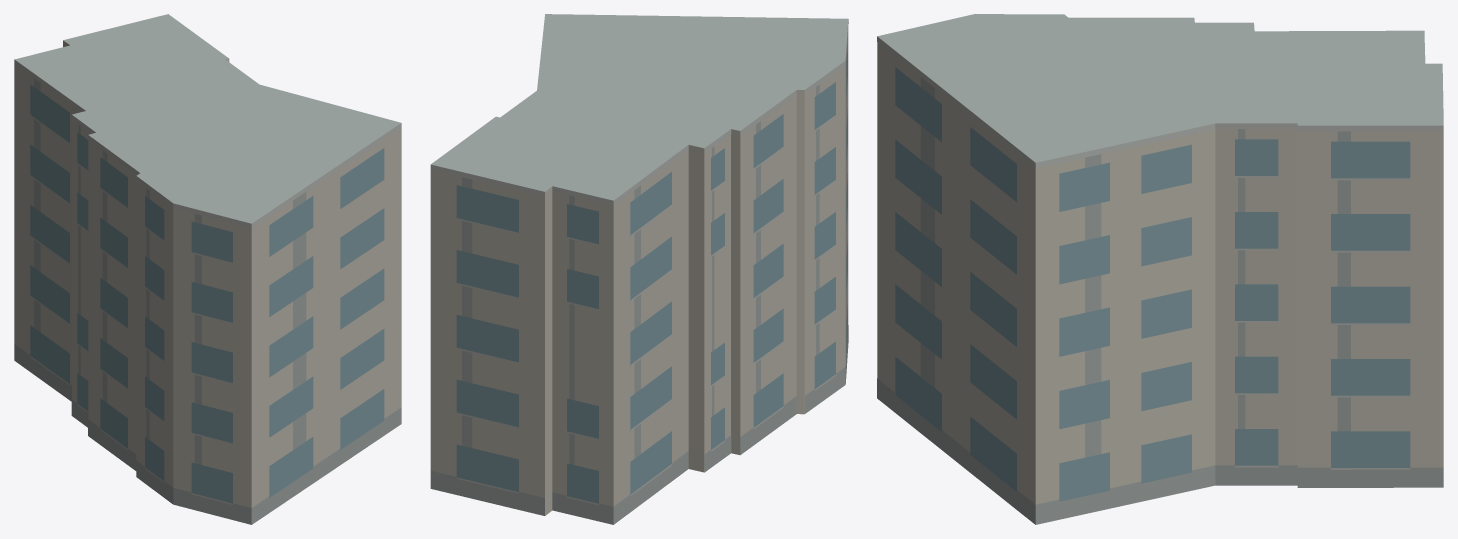
Rendered from survey-upis-32914437.glb.
The picture shows the model from 3 angles, left to right: view 1: azimuth 30°, elevation 25°; view 2: azimuth 150°, elevation 25°; view 3: azimuth 270°, elevation 25°; orthographic projection. The views are drawn at different scales.
Visible parts, largest first — view 1: survey-upis-32914437.tmp; view 2: survey-upis-32914437.tmp; view 3: survey-upis-32914437.tmp.
Part boxes in pixels (<box>): survey-upis-32914437.tmp: <box>14,14,401,524</box>; survey-upis-32914437.tmp: <box>430,14,848,524</box>; survey-upis-32914437.tmp: <box>877,14,1443,524</box>.
Bounding box in the file's own units: 13.76 × 15.6 × 22.14.
